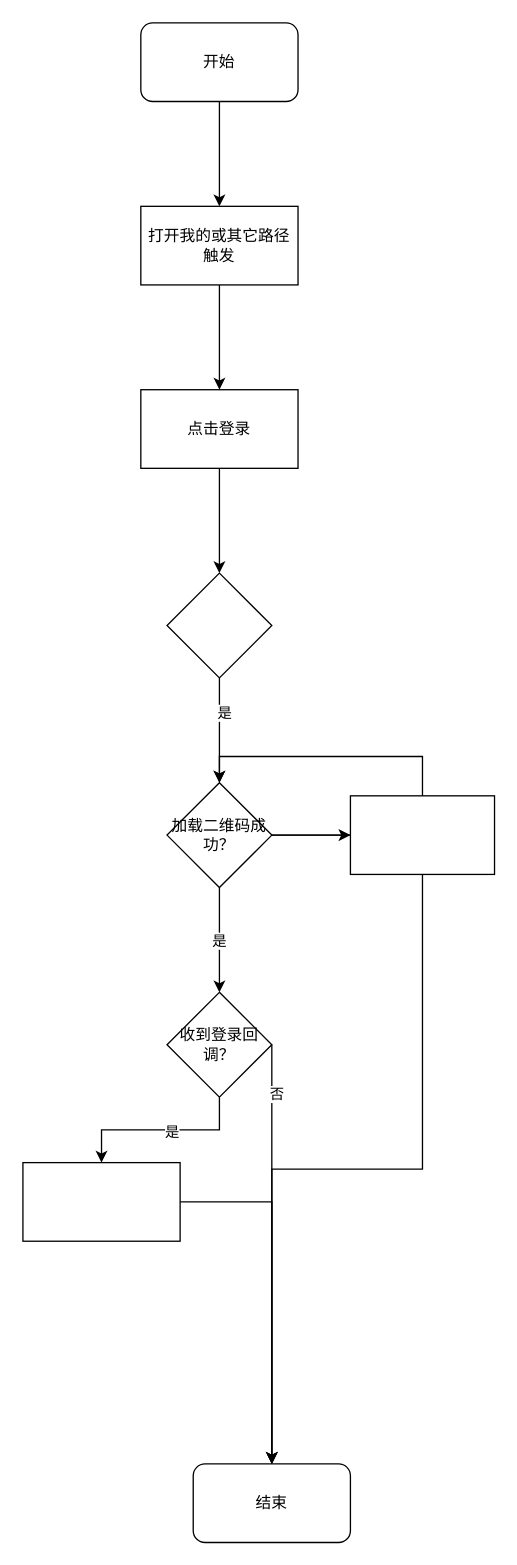
This 517x1565 diagram has some shape labels left out. The shapes that lost their labels are listed below. From the top down, each one's centre as x and y in pixels, then its label:
At pixel 219 625: "用户同意协议？".
At pixel 422 834: "点击重试".
At pixel 101 1201: "获取用户信息及会员信息".
